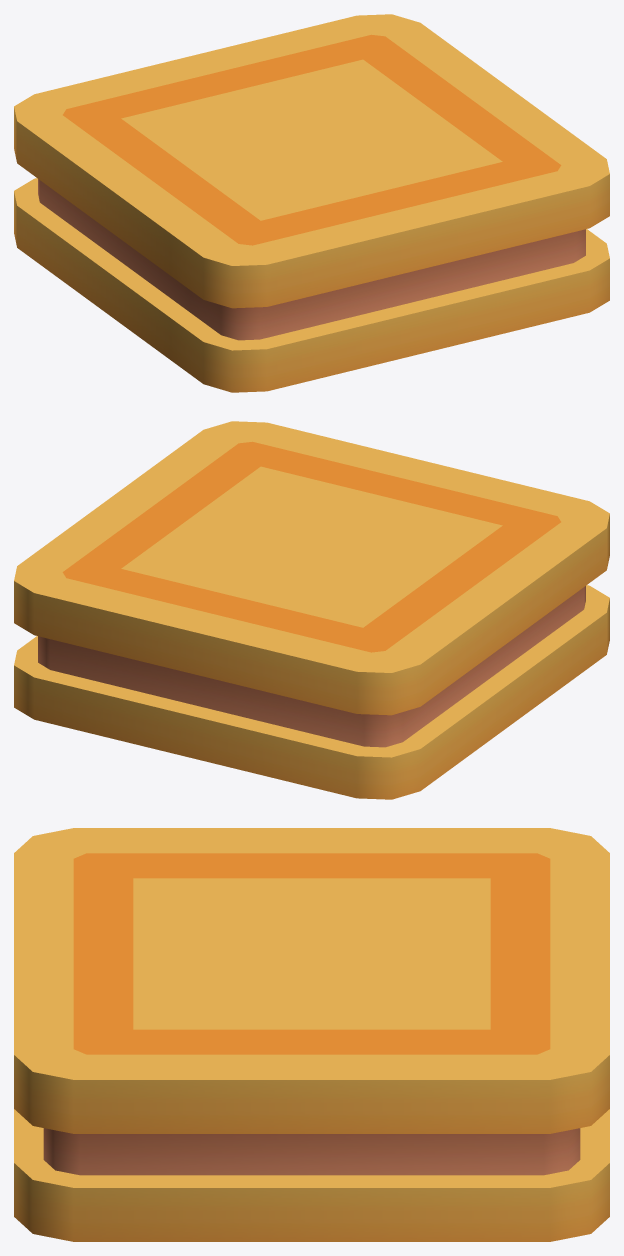
The model's file is kenney-platformer-block-moving.glb.
3 renders of one model, top to bottom at view 1: azimuth 30°, elevation 25°; view 2: azimuth 150°, elevation 25°; view 3: azimuth 270°, elevation 25°, orthographic. The views are drawn at different scales.
Visible parts, largest first — view 1: block-moving; view 2: block-moving; view 3: block-moving.
Part boxes in pixels (x1,y1,x2,y2): block-moving: (14,14,609,392); block-moving: (14,421,609,799); block-moving: (14,828,609,1241).
Bounding box in the file's own units: 1 × 0.3 × 1.
1 material, 1 textured.
